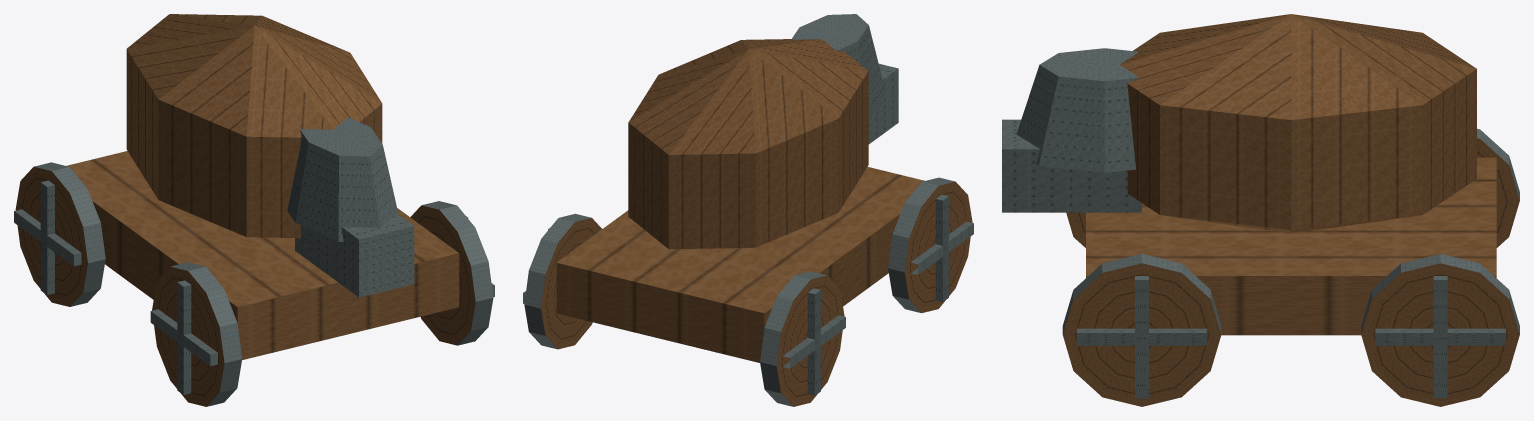
Rendered from unit-WOODEN_BEAST-lod0.glb.
3 views of the same model, side by side, from view 1: azimuth 30°, elevation 25°; view 2: azimuth 150°, elevation 25°; view 3: azimuth 270°, elevation 25° (orthographic). The views are drawn at different scales.
Bounding box in the file's own units: 0.385 × 0.38 × 0.555.
Materials: 1 (1 with a texture image).
